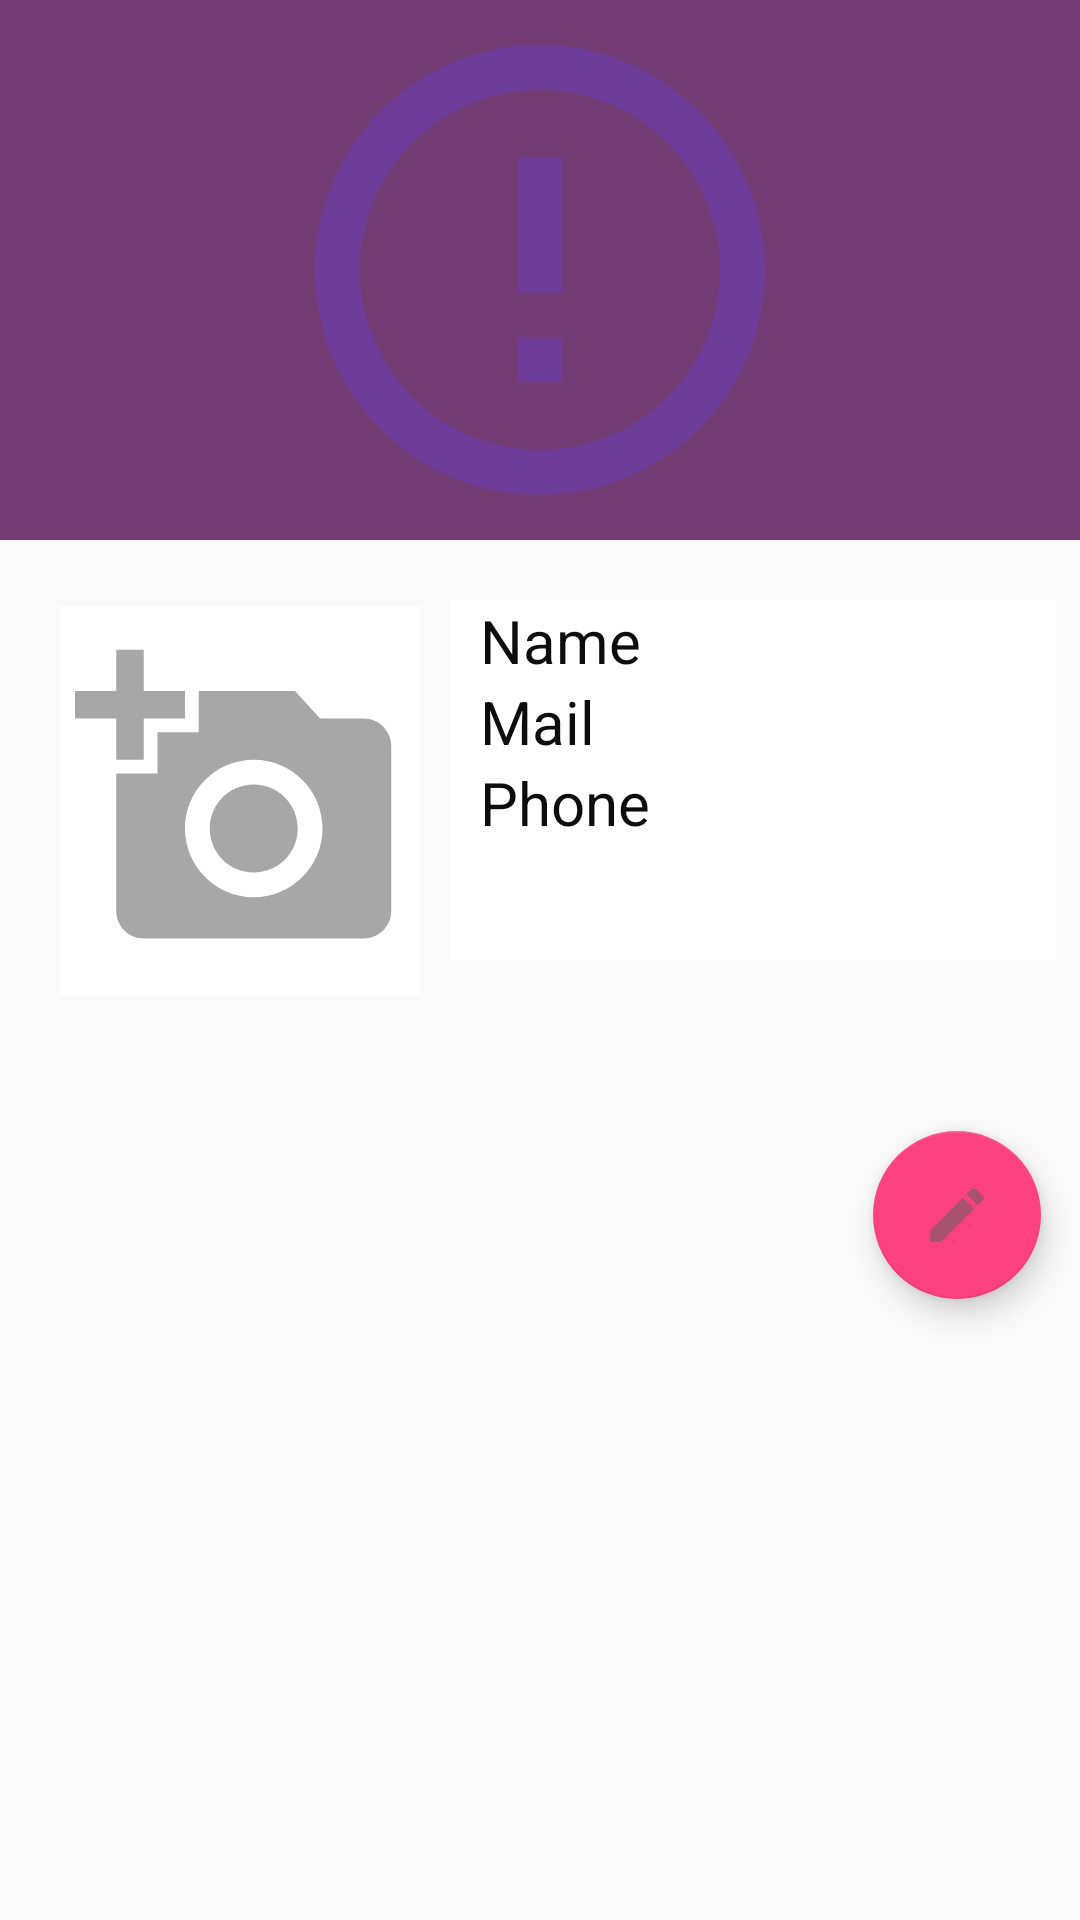

Where to tap for icons on this 1080 x 1920 app screen, as (x,y):
add photo: (233,794)
edit: (957,1215)
